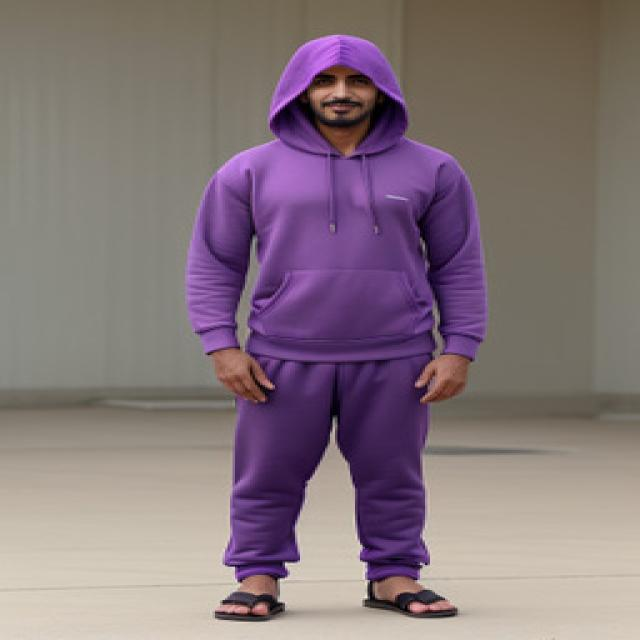Ai human 2: (182, 22, 489, 630)
